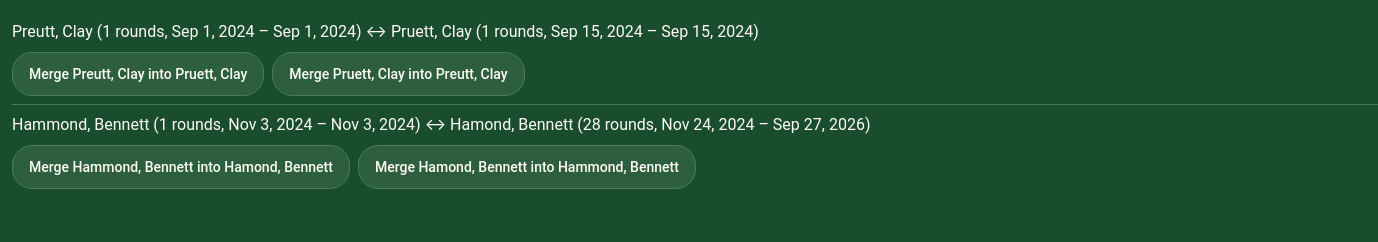
Test case: DuplicatesQueue › shows a rejected merge next to the queue
This screenshot has width=1378, height=242.
Click the button "Merge Hamond, Bennett into Hammond, Bennett".
click(527, 167)  # box 358,145 -> 696,189
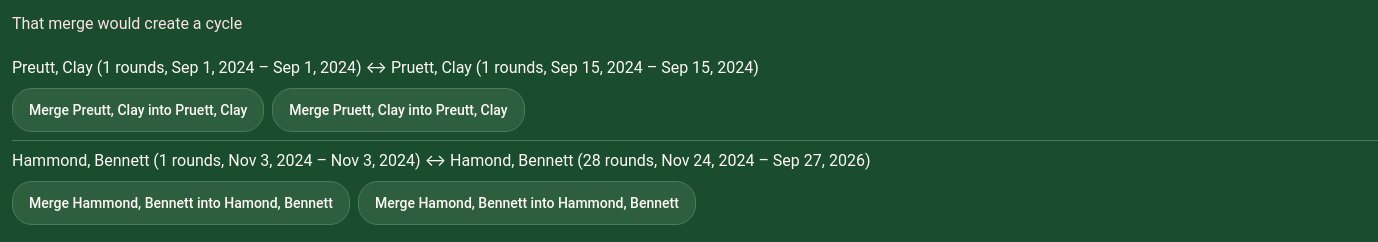
Result: the message reads "That merge would create a cycle" at 12,14 -> 242,33
